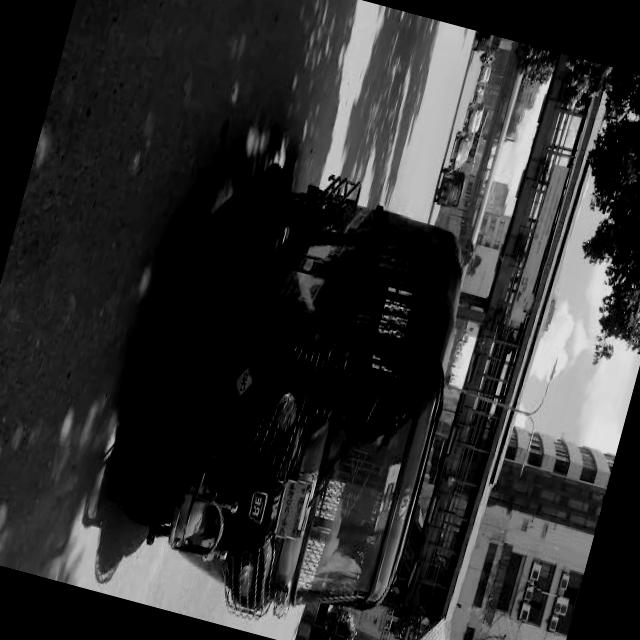car: (448, 130, 474, 172)
motorcycle: (95, 137, 498, 640), (431, 166, 468, 214)
truck: (462, 101, 486, 136)
